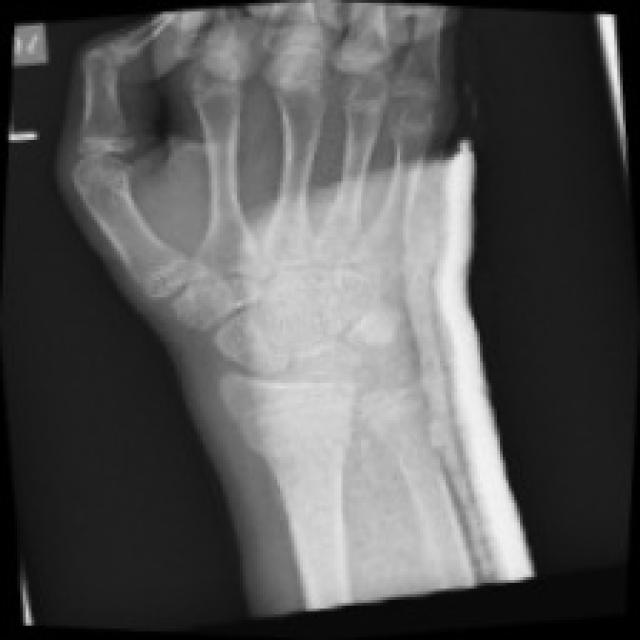fracture: (66, 110, 152, 223)
